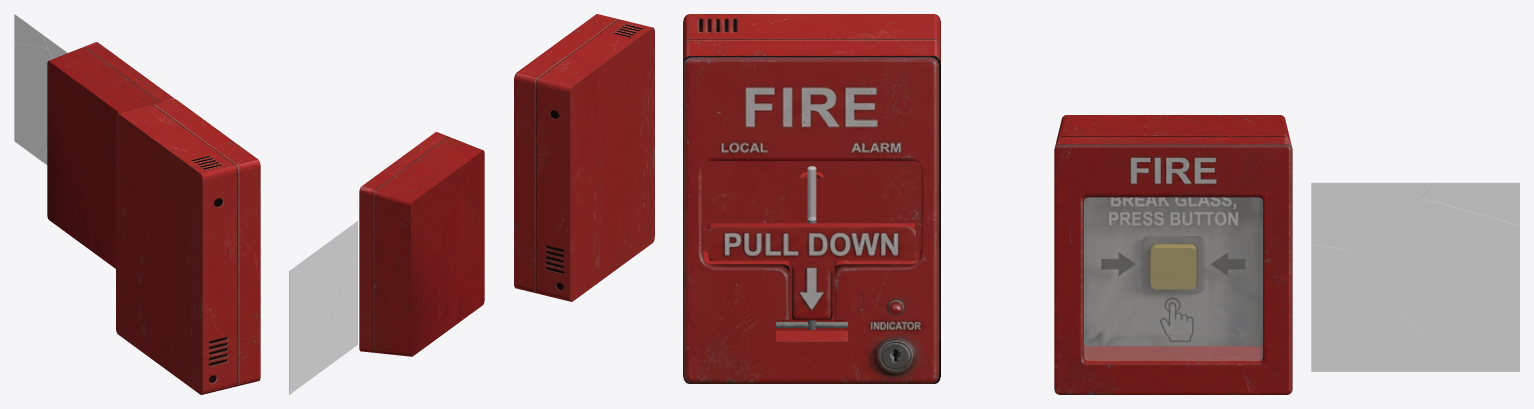
File: simple_fire_alarm.glb
3 renders of one model, left to right at view 1: azimuth 30°, elevation 25°; view 2: azimuth 150°, elevation 25°; view 3: azimuth 270°, elevation 25°, orthographic. The views are drawn at different scales.
Visible parts, largest first — view 1: Base.001, Base, Plane_cell.003, Plane_cell.002, Plane_cell; view 2: Base.001, Base, Plane_cell.003, Plane_cell.001, Plane_cell, Plane_cell.002; view 3: Base.001, Base, Glass, Plane_cell.003, Plane_cell.001, PushHolder, Plane_cell, Plane_cell.002, Button.
Boxes of the visible parts, x1=… form: Base.001: x1=116, y1=99, x2=260, y2=394; Base: x1=47, y1=42, x2=174, y2=268; Plane_cell.003: x1=14, y1=43, x2=52, y2=157; Plane_cell.002: x1=14, y1=14, x2=47, y2=48; Plane_cell: x1=43, y1=35, x2=67, y2=58; Base.001: x1=514, y1=14, x2=654, y2=301; Base: x1=359, y1=132, x2=484, y2=356; Plane_cell.003: x1=289, y1=257, x2=346, y2=394; Plane_cell.001: x1=311, y1=261, x2=357, y2=378; Plane_cell: x1=317, y1=221, x2=357, y2=272; Plane_cell.002: x1=289, y1=250, x2=321, y2=298; Base.001: x1=683, y1=14, x2=940, y2=383; Base: x1=1054, y1=115, x2=1292, y2=394; Glass: x1=1084, y1=197, x2=1262, y2=360; Plane_cell.003: x1=1345, y1=198, x2=1519, y2=371; Plane_cell.001: x1=1311, y1=244, x2=1452, y2=371; PushHolder: x1=708, y1=219, x2=915, y2=329; Plane_cell: x1=1311, y1=182, x2=1433, y2=249; Plane_cell.002: x1=1422, y1=182, x2=1519, y2=225; Button: x1=1150, y1=244, x2=1196, y2=289.
Size of the model in its own units: 2.31 by 4.97 by 11.49.
Materials: 5 (4 with a texture image).
